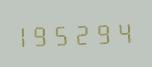five: (56, 20, 74, 47)
four: (113, 18, 131, 45)
nine: (36, 21, 54, 47), (94, 19, 112, 45)
one: (17, 22, 35, 48)
two: (75, 20, 93, 46)
